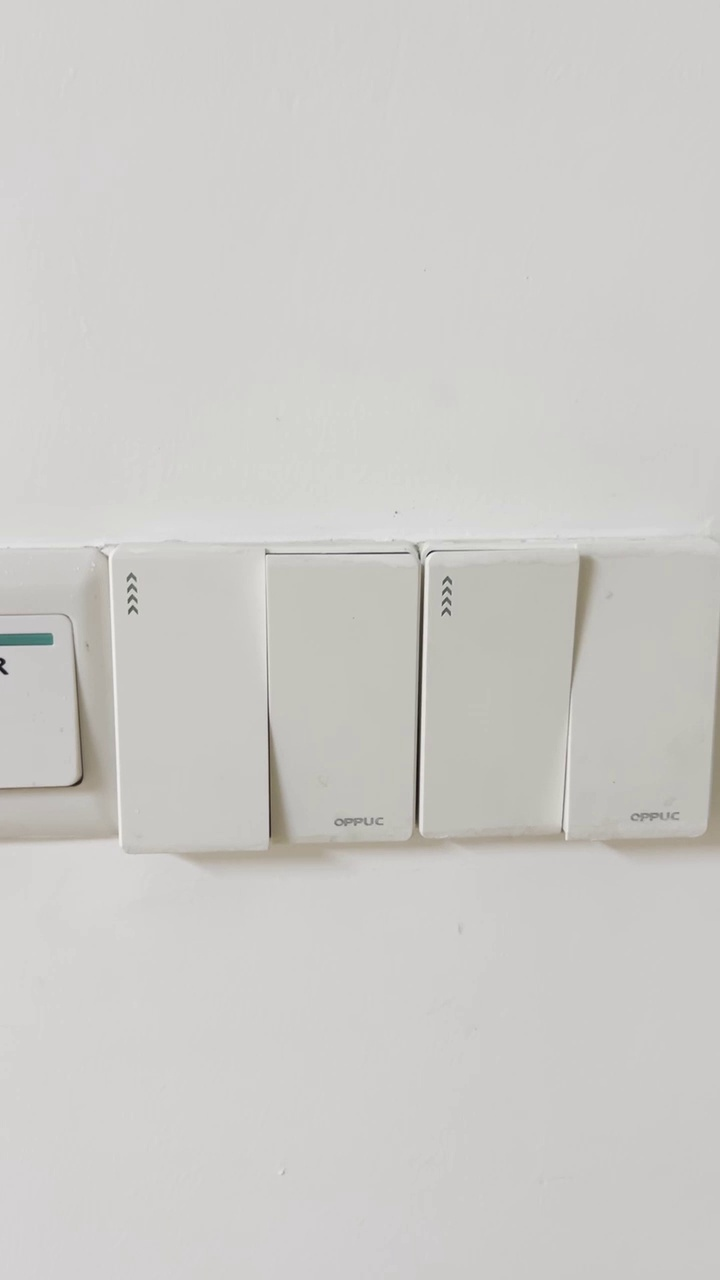button1: (116, 551, 263, 845), (426, 552, 566, 835), (273, 558, 414, 834), (576, 549, 713, 833)
